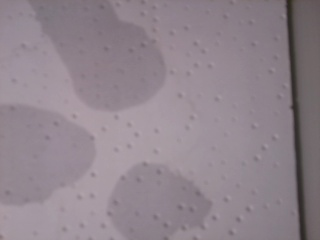Water_detected: (9, 9, 146, 170), (124, 175, 177, 224)
